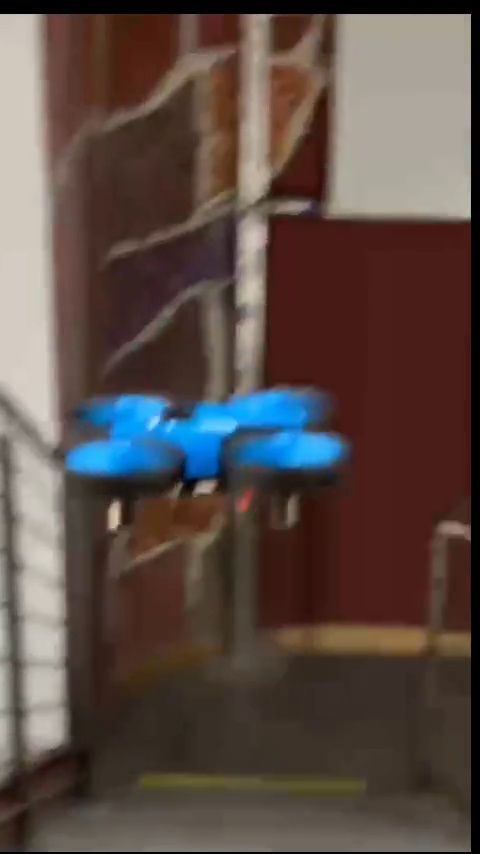drone: (66, 398, 365, 541)
